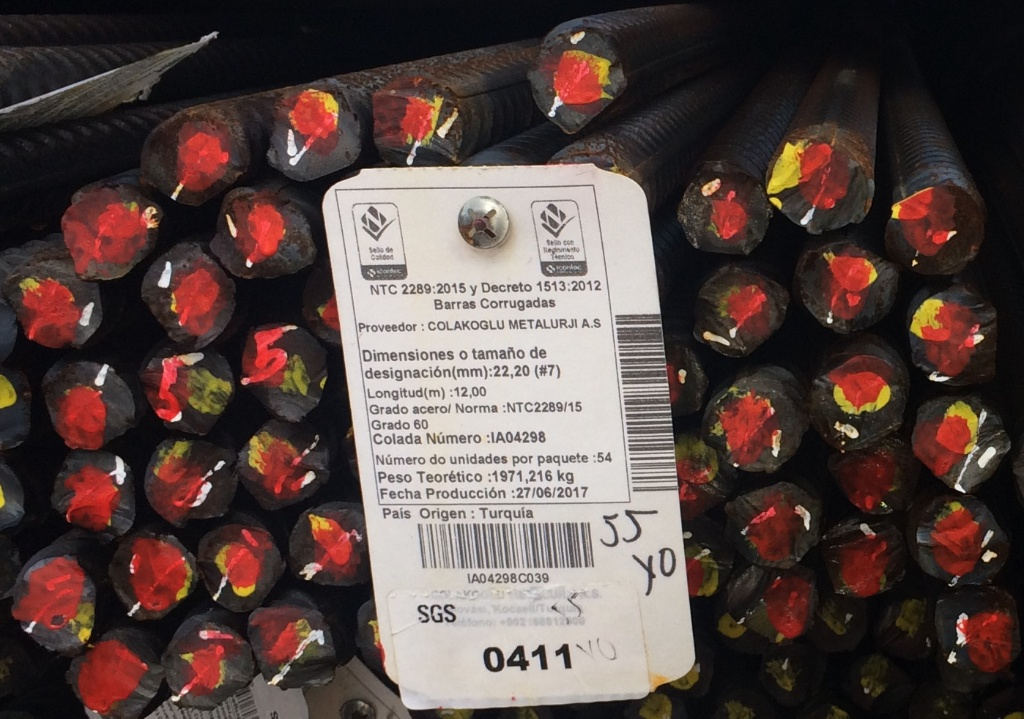dipstick: (530, 28, 628, 135), (695, 377, 803, 472), (142, 110, 247, 206), (142, 243, 237, 348), (766, 139, 874, 229), (60, 186, 161, 280), (809, 354, 904, 451), (911, 397, 1010, 490), (212, 189, 314, 278), (936, 589, 1024, 691), (798, 244, 899, 332), (692, 267, 789, 358), (888, 185, 982, 276), (907, 290, 997, 384), (241, 322, 327, 420), (137, 348, 235, 434), (42, 359, 135, 449), (268, 91, 359, 182), (914, 496, 1008, 584), (724, 481, 820, 567), (238, 422, 330, 511), (373, 75, 461, 167), (144, 438, 236, 524), (110, 531, 199, 619), (198, 523, 284, 614), (162, 623, 251, 709), (13, 557, 94, 651), (7, 266, 101, 346), (65, 642, 162, 719), (679, 171, 769, 253), (52, 452, 135, 538), (291, 501, 374, 585), (249, 608, 334, 688), (821, 518, 908, 596), (728, 565, 815, 637), (828, 451, 912, 514), (673, 431, 736, 513), (837, 651, 913, 714), (759, 647, 824, 705), (815, 596, 869, 651)
